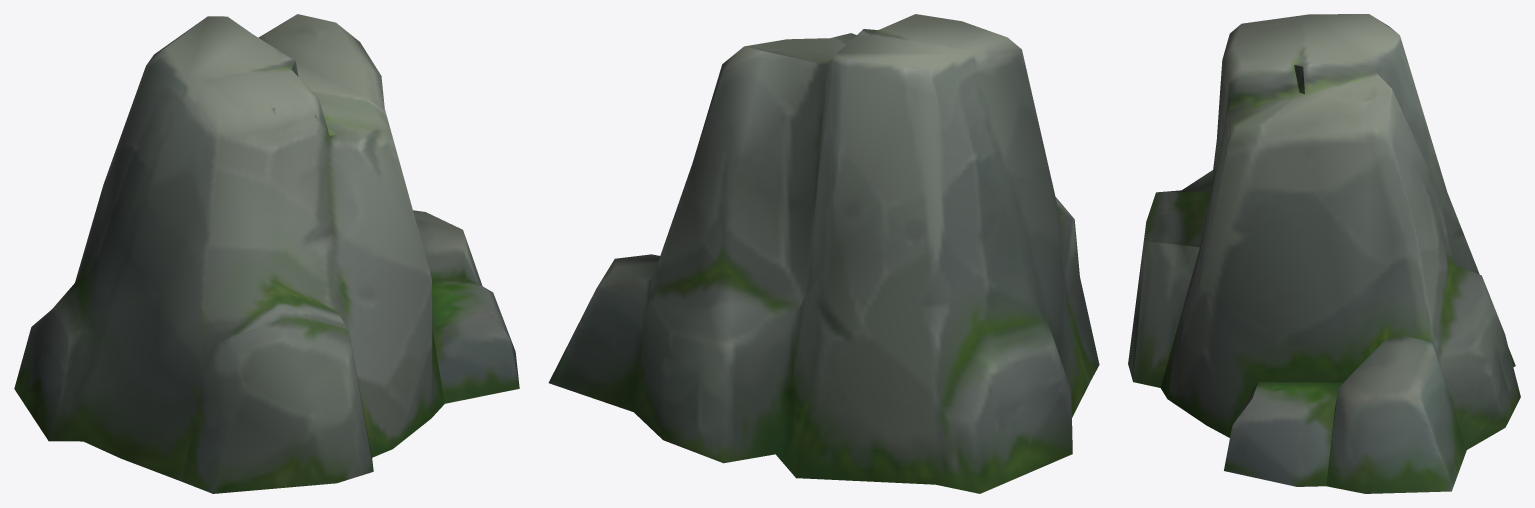
File: scene_lawennushandao_stone05.FBX
3 renders of one model, left to right at view 1: azimuth 30°, elevation 25°; view 2: azimuth 150°, elevation 25°; view 3: azimuth 270°, elevation 25°, orthographic. The views are drawn at different scales.
Visible parts, largest first — view 1: scene_lawennushandao_stone05; view 2: scene_lawennushandao_stone05; view 3: scene_lawennushandao_stone05.
Boxes of the visible parts, left/top/right/bottom form: scene_lawennushandao_stone05: left=14, top=14, right=519, bottom=493; scene_lawennushandao_stone05: left=548, top=14, right=1099, bottom=493; scene_lawennushandao_stone05: left=1128, top=14, right=1520, bottom=493.
Size of the model in its own units: 174 by 130 by 138.
